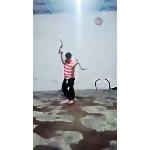Celurit: (74, 56, 88, 74), (56, 34, 65, 57)
